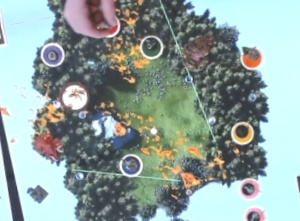blue: (112, 150, 145, 181)
green: (136, 31, 167, 63)
orange: (236, 43, 265, 71)
pink: (232, 173, 263, 203)
red: (94, 11, 123, 41)
violet: (36, 38, 67, 70)
yellow: (225, 116, 256, 147)
